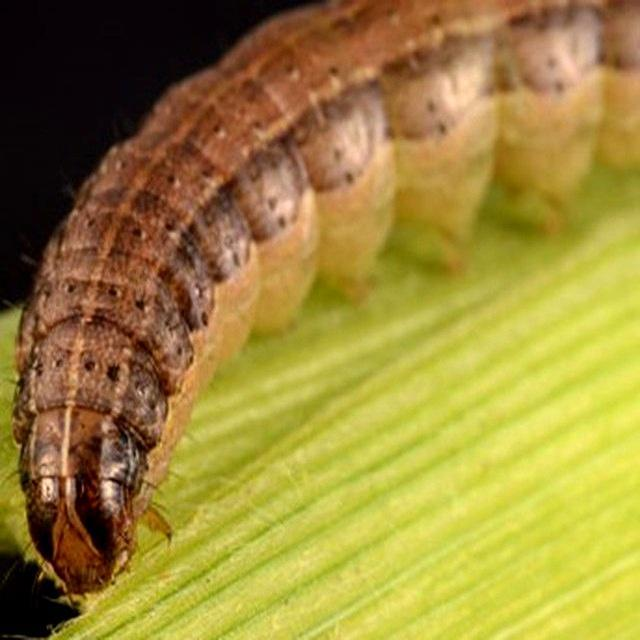worm: (7, 1, 640, 609)
